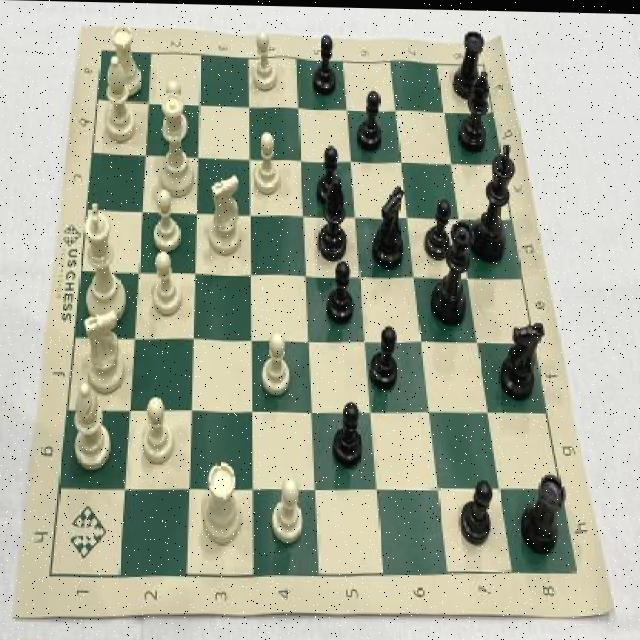bishop: (457, 66, 492, 153), (318, 175, 348, 262)
black-bishop: (469, 137, 519, 262)
black-king: (500, 315, 545, 400), (369, 182, 407, 268)
black-knight: (458, 476, 496, 549), (331, 395, 364, 472), (369, 320, 399, 392), (326, 258, 356, 326), (423, 195, 452, 262), (354, 85, 382, 154), (310, 30, 338, 95), (316, 141, 342, 207)
black-pawn: (431, 218, 472, 327)
black-queen: (522, 469, 568, 555), (452, 26, 486, 96)
black-rook: (74, 383, 113, 473), (102, 54, 136, 146)
white-bishop: (82, 198, 129, 323)
white-king: (81, 309, 126, 394), (208, 173, 245, 260)
white-knight: (269, 474, 304, 548), (142, 396, 176, 466), (260, 328, 292, 399), (252, 128, 282, 197), (151, 251, 182, 317), (252, 26, 280, 93), (154, 186, 181, 252), (163, 77, 189, 144)
white-pawn: (156, 92, 198, 198)
white-queen: (201, 458, 244, 547), (112, 22, 145, 100)
